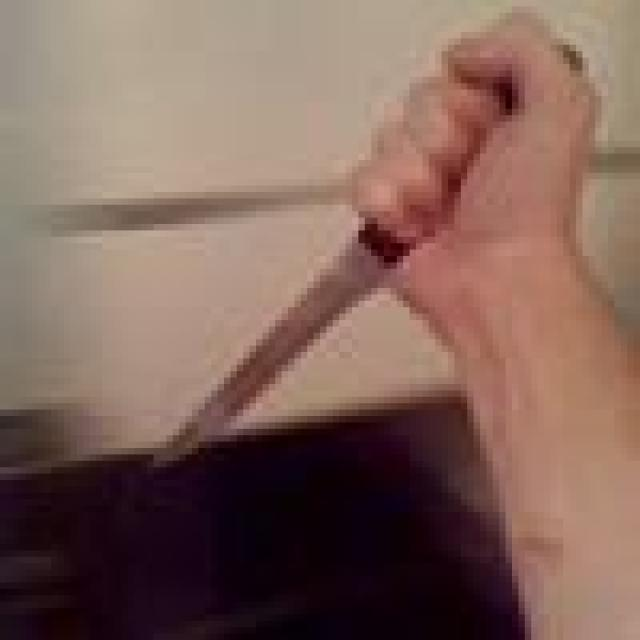knife: (153, 245, 393, 462)
